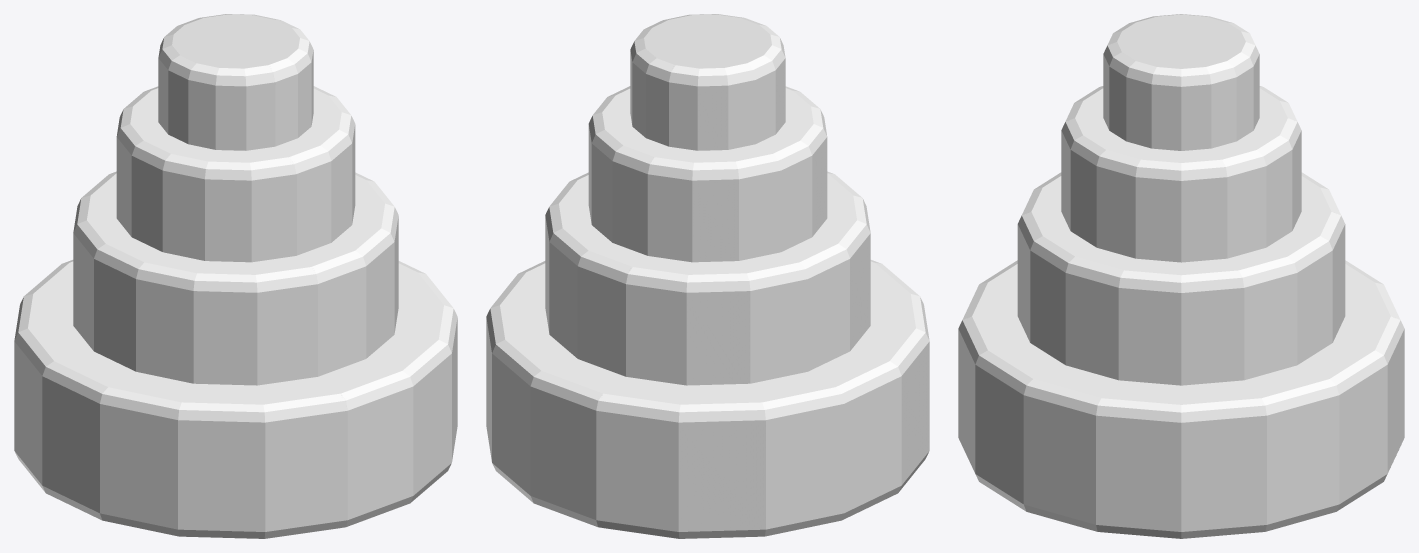
Rendered from cake.glb.
The picture shows the model from 3 angles, left to right: view 1: azimuth 30°, elevation 25°; view 2: azimuth 150°, elevation 25°; view 3: azimuth 270°, elevation 25°; orthographic projection.
Parts seen in each view (by area): view 1: Cylinder.001; view 2: Cylinder.001; view 3: Cylinder.001.
Part boxes in pixels (<box>): Cylinder.001: <box>14,14,457,538</box>; Cylinder.001: <box>486,14,929,538</box>; Cylinder.001: <box>958,14,1404,538</box>.
Bounding box in the file's own units: 1.54 × 1.55 × 1.54.
1 material, 1 textured.
